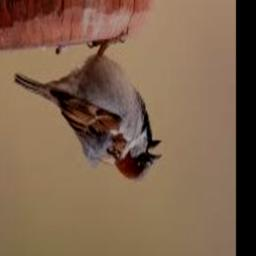Sparrow: (15, 30, 163, 183)
